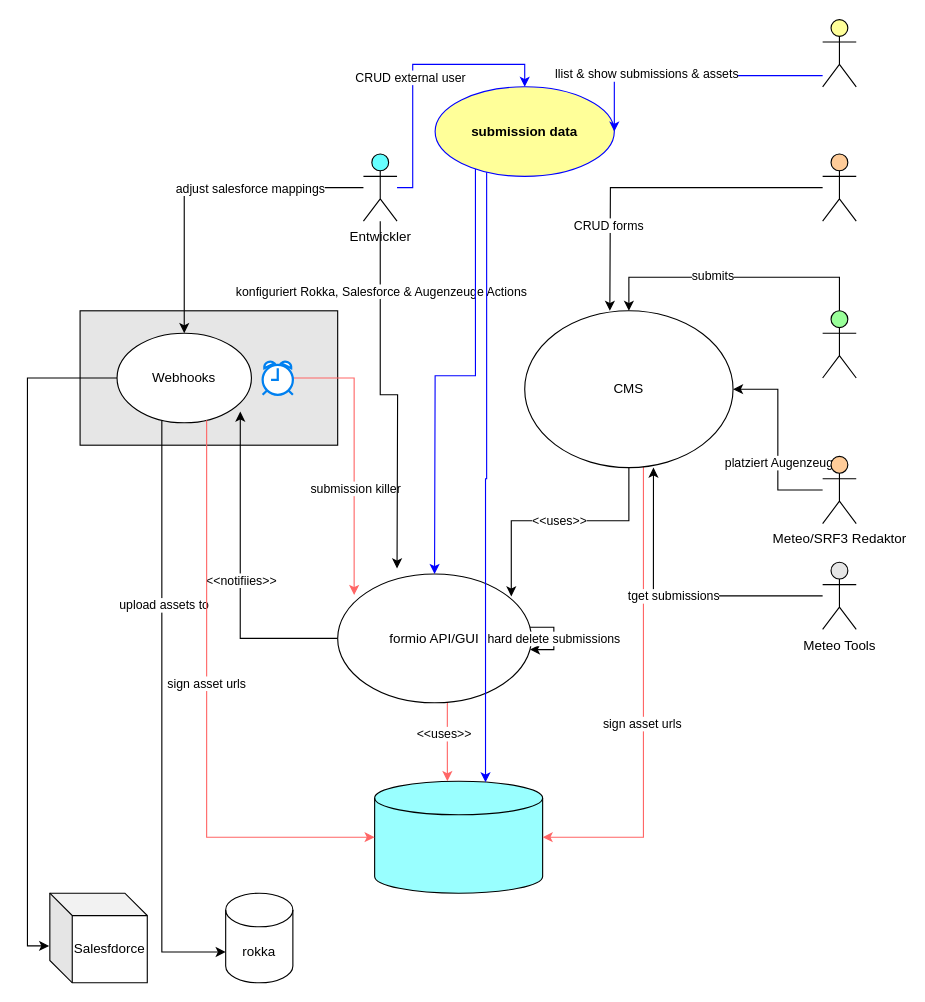
Some shapes in this 925 by 1002 pixel diagram are drawn without their labels. The centre of each missing label's shape, as x and y in pixels:
"external client" goes at point (839, 52).
"Redaktor" goes at point (839, 187).
"s3" goes at point (458, 836).
"user" goes at point (839, 344).
